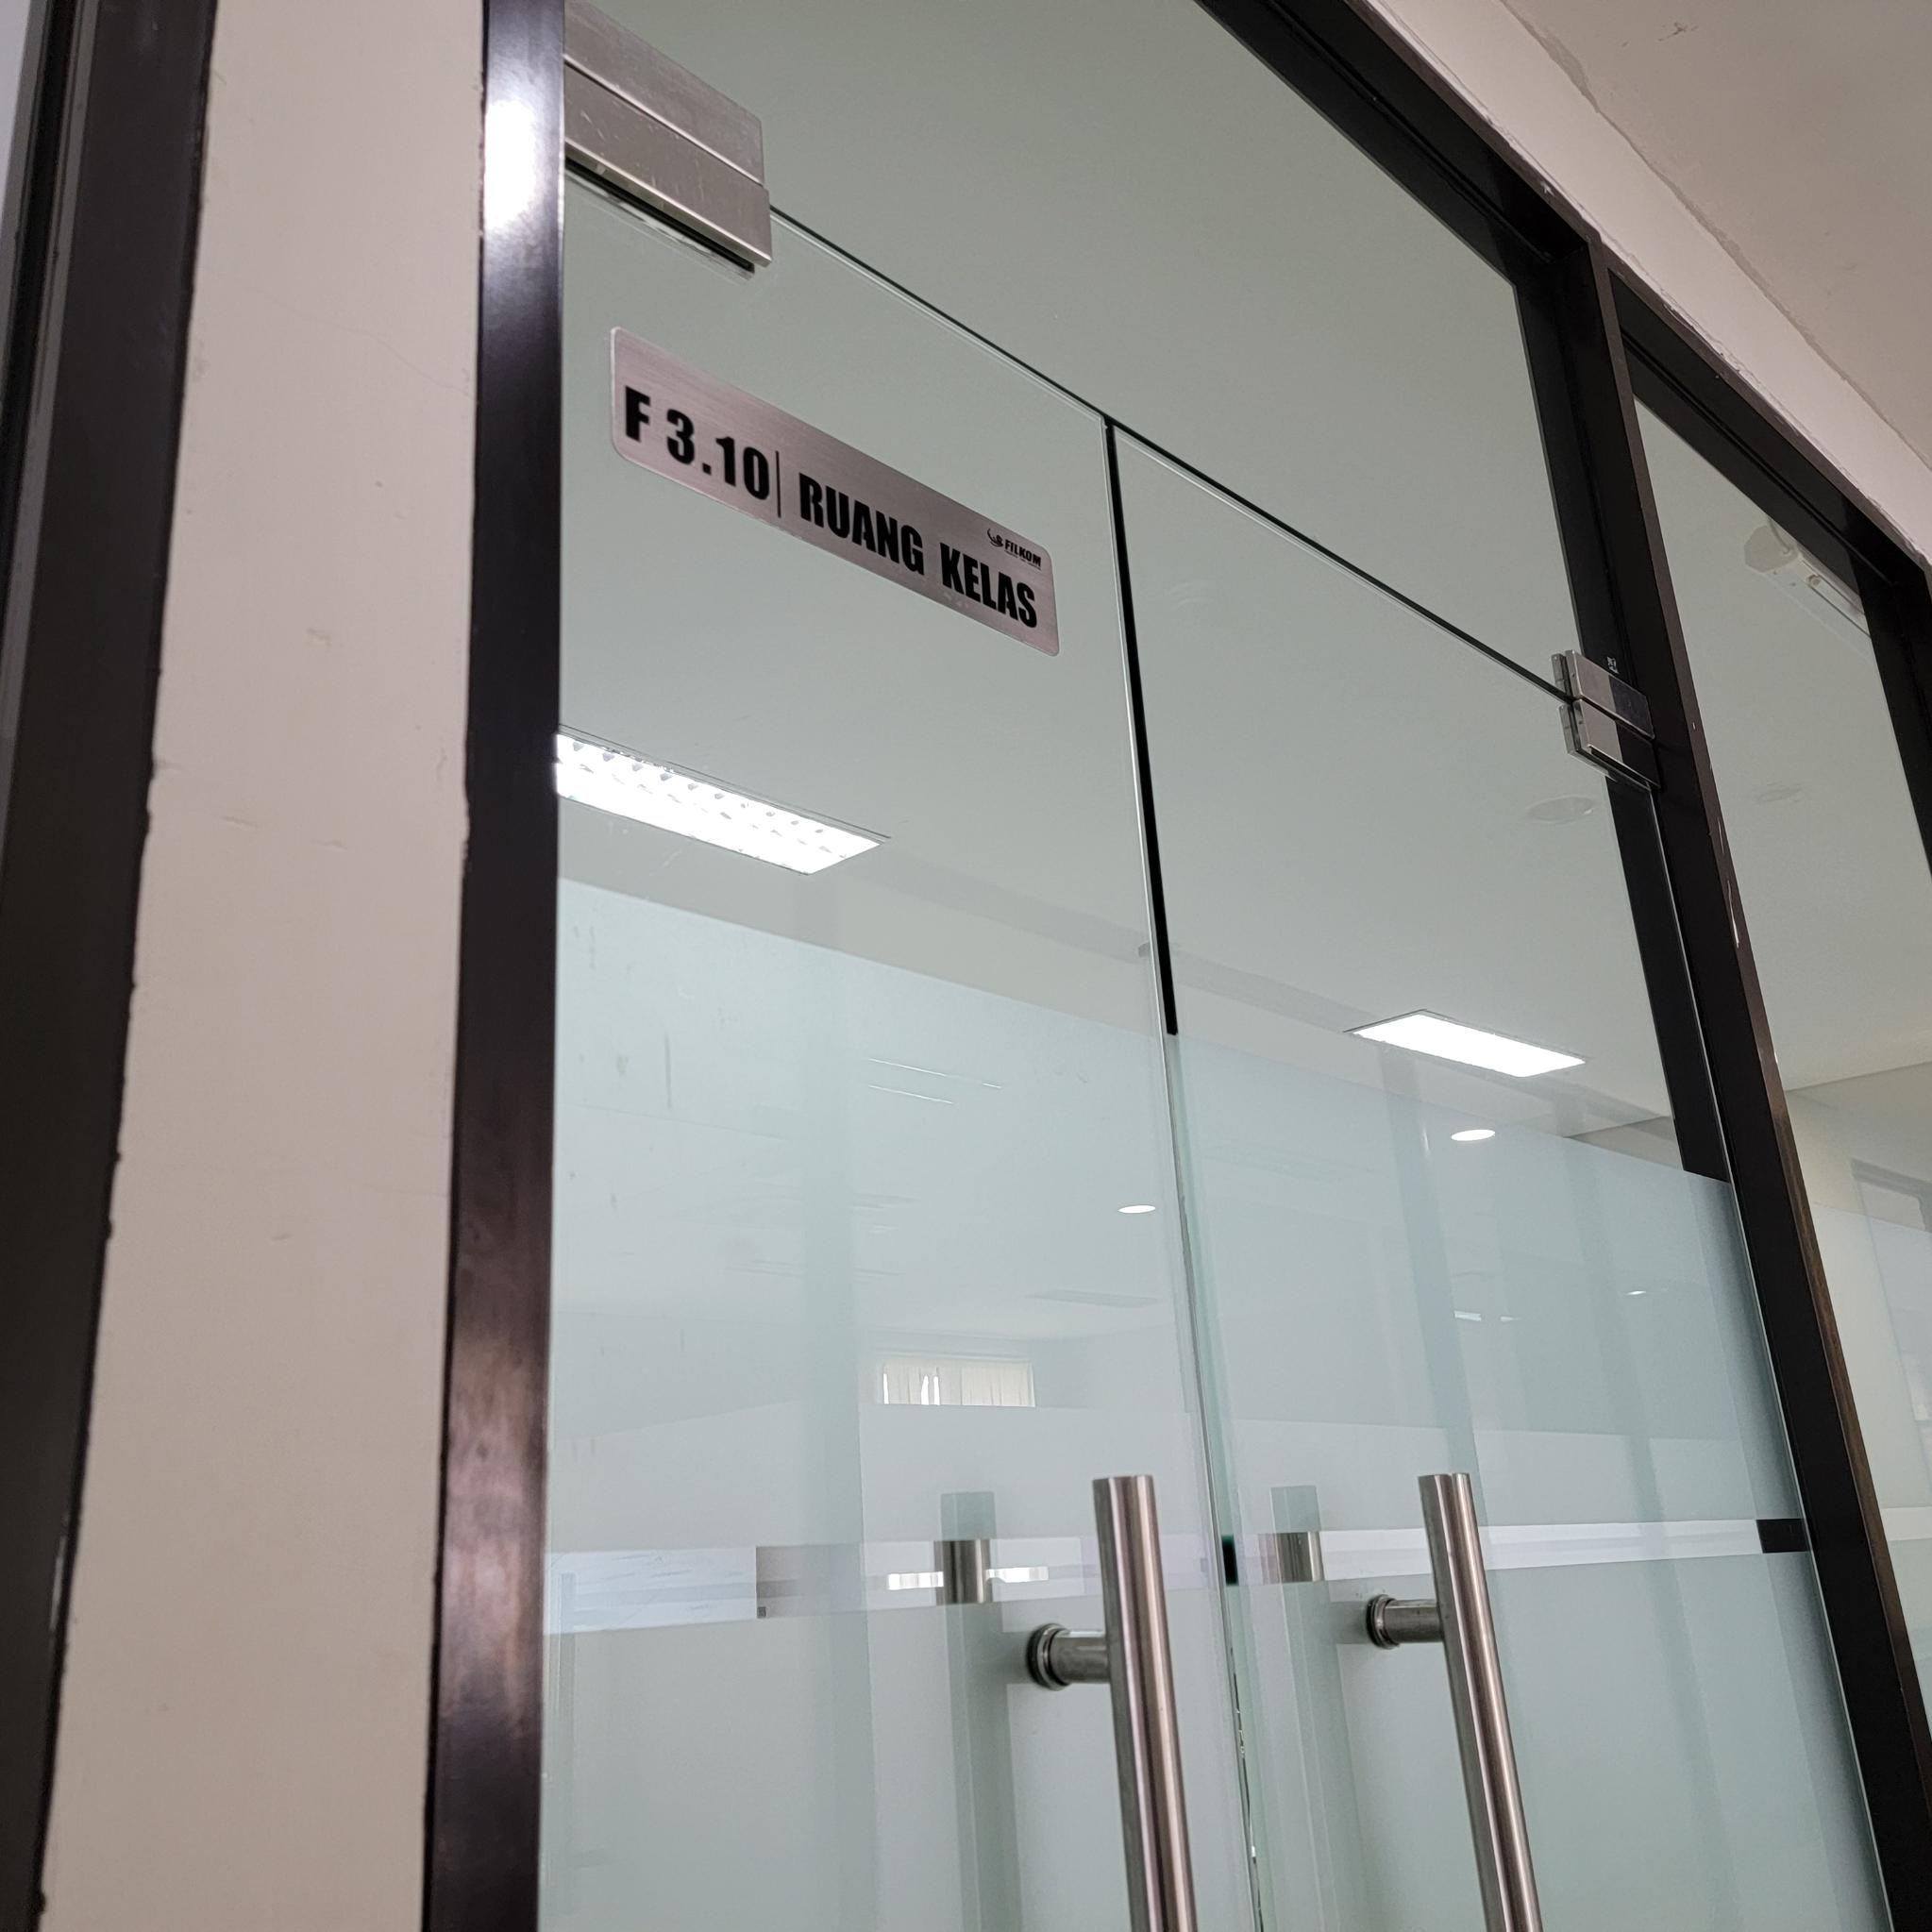plate: (612, 324, 1060, 662)
